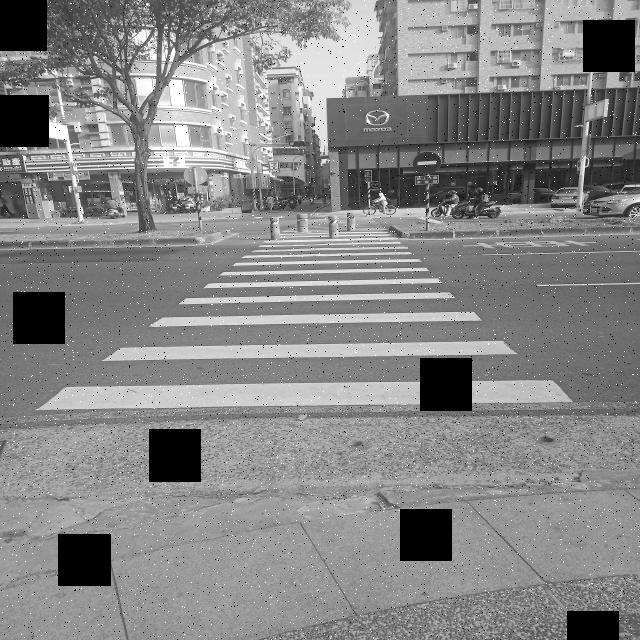person: (473, 188, 490, 219), (443, 190, 460, 216), (372, 192, 388, 214), (320, 194, 327, 208), (267, 194, 273, 210)
zebra crossing: (26, 217, 585, 409)
